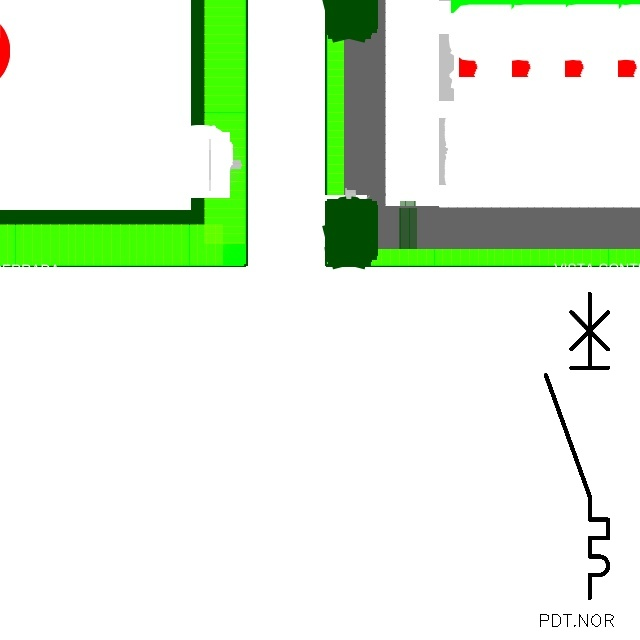interruptor_termomagnetico: (538, 286, 616, 606)
